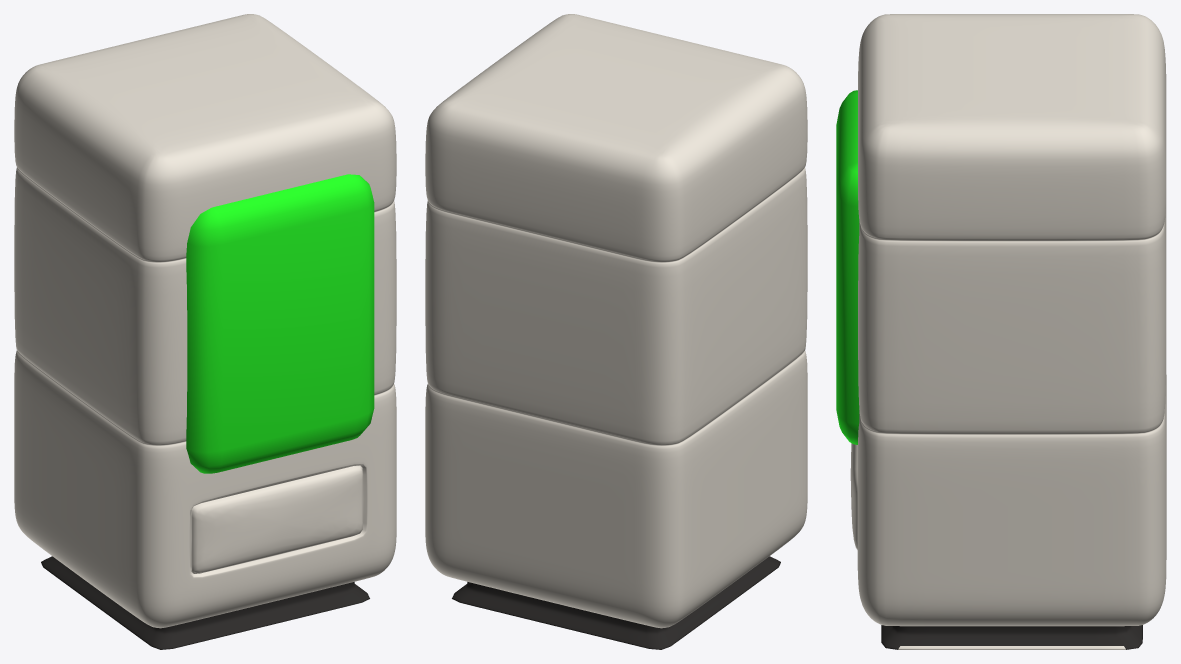
The model's file is Institute_Machine_Final.FBX.
3 renders of one model, left to right at view 1: azimuth 30°, elevation 25°; view 2: azimuth 150°, elevation 25°; view 3: azimuth 270°, elevation 25°, orthographic. The views are drawn at different scales.
Visible parts, largest first — view 1: Machine; view 2: Machine; view 3: Machine.
Part boxes in pixels (x1,y1,x2,y2): Machine: (14,14,396,649); Machine: (425,14,807,649); Machine: (836,14,1166,649).
Bounding box in the file's own units: 147 × 268 × 152.
